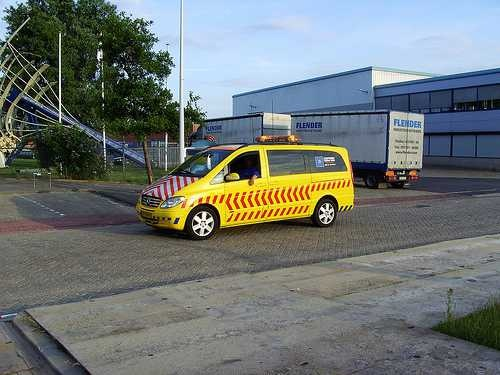Ambulance: (126, 138, 373, 242)
